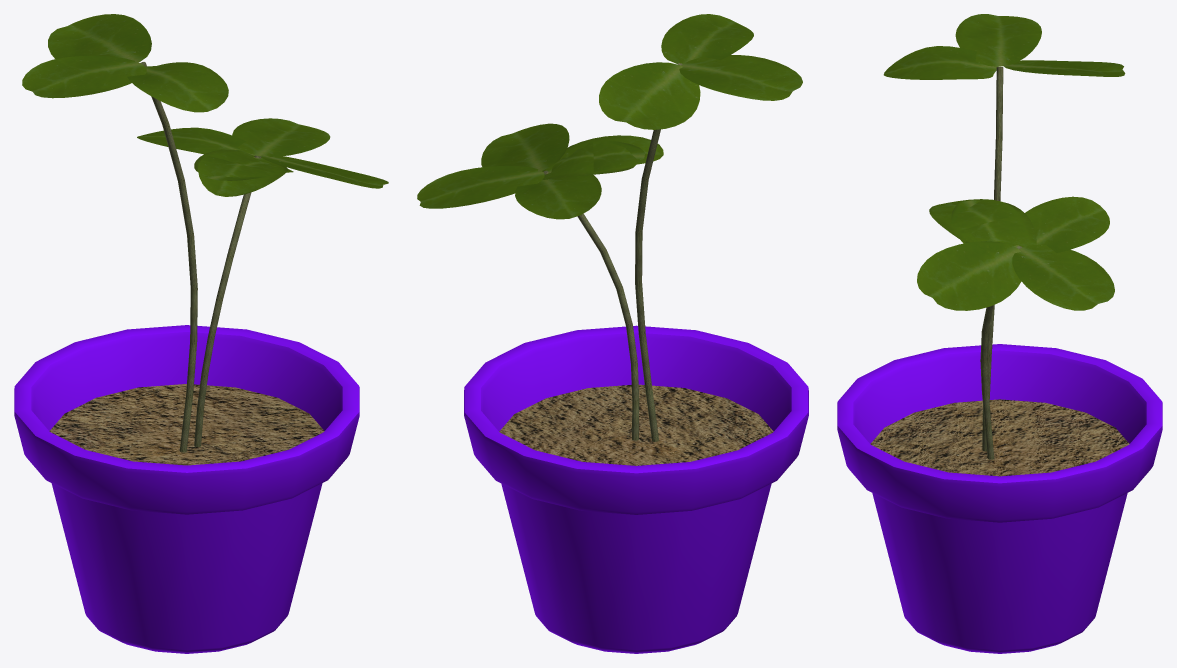
The model's file is Flower_pot.gltf.
3 renders of one model, left to right at view 1: azimuth 30°, elevation 25°; view 2: azimuth 150°, elevation 25°; view 3: azimuth 270°, elevation 25°, orthographic. The views are drawn at different scales.
Visible parts, largest first — view 1: Cylinder001, 흙, Ellipse001, Ellipse002, Ellipse003, Line001, Ellipse006, Ellipse008, Line002, Ellipse007, Ellipse005, Ellipse004; view 2: Cylinder001, 흙, Ellipse002, Ellipse001, Ellipse006, Ellipse003, Ellipse005, Ellipse007, Line001, Ellipse008, Line002, Ellipse004; view 3: Cylinder001, 흙, Ellipse005, Ellipse006, Ellipse001, Ellipse007, Ellipse003, Ellipse008, Ellipse004, Ellipse002, Line001, Line002.
Boxes of the visible parts, x1,y1,x2,y2 form: Cylinder001: (14, 325, 359, 653); 흙: (49, 384, 324, 465); Ellipse001: (22, 55, 146, 98); Ellipse002: (48, 14, 151, 62); Ellipse003: (127, 62, 228, 112); Line001: (140, 62, 197, 452); Ellipse006: (232, 118, 330, 156); Ellipse008: (198, 156, 287, 196); Line002: (194, 155, 261, 446); Ellipse007: (137, 127, 257, 155); Ellipse005: (261, 155, 388, 188); Ellipse004: (194, 149, 293, 180); Cylinder001: (464, 325, 808, 653); 흙: (499, 384, 773, 465); Ellipse002: (599, 62, 700, 129); Ellipse001: (679, 55, 802, 100); Ellipse006: (417, 165, 544, 208); Ellipse003: (661, 14, 753, 63); Ellipse005: (481, 123, 569, 171); Ellipse007: (515, 174, 601, 219); Line001: (635, 63, 682, 441); Ellipse008: (545, 135, 663, 174); Line002: (543, 170, 639, 440); Ellipse004: (542, 140, 644, 179); Cylinder001: (837, 344, 1162, 653); 흙: (870, 399, 1129, 476); Ellipse005: (917, 241, 1021, 310); Ellipse006: (1012, 244, 1114, 310); Ellipse001: (955, 14, 1041, 66); Ellipse007: (1025, 196, 1109, 252); Ellipse003: (883, 46, 996, 79); Ellipse008: (929, 199, 1019, 247); Ellipse004: (951, 200, 1036, 247); Ellipse002: (1003, 60, 1125, 76); Line001: (982, 67, 1003, 451); Line002: (980, 246, 1022, 459).
Size of the model in its own units: 4884 by 7958 by 4364.
4 materials, 3 textured.
